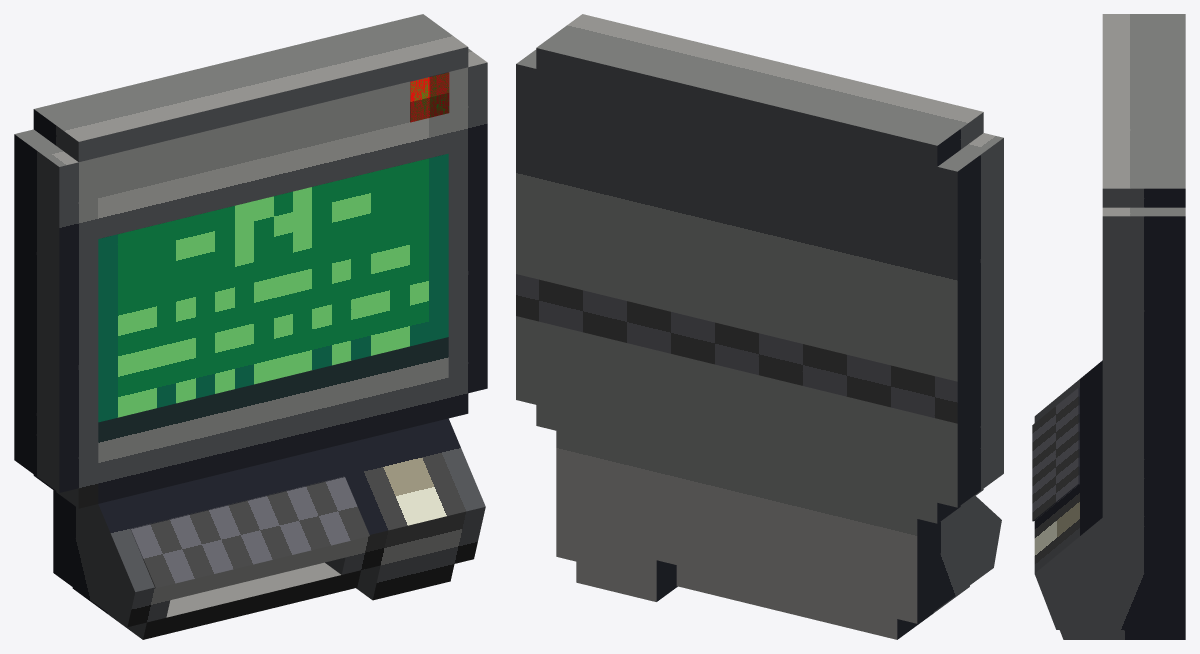
Rendered from newscaster_wanted_alert.glb.
3 views of the same model, side by side, from view 1: azimuth 30°, elevation 25°; view 2: azimuth 150°, elevation 25°; view 3: azimuth 270°, elevation 25° (orthographic). The views are drawn at different scales.
Visible parts, largest first — view 1: Continuous_Housing, Screen_Overlay, Keyboard_Panel, Alert_Overlay; view 2: Continuous_Housing; view 3: Continuous_Housing, Keyboard_Panel.
Boxes of the visible parts, x1=… form: Continuous_Housing: x1=14, y1=14, x2=487, y2=639; Screen_Overlay: x1=98, y1=72, x2=449, y2=422; Keyboard_Panel: x1=130, y1=476, x2=369, y2=588; Alert_Overlay: x1=410, y1=73, x2=448, y2=121; Continuous_Housing: x1=516, y1=14, x2=1003, y2=639; Continuous_Housing: x1=1034, y1=14, x2=1185, y2=639; Keyboard_Panel: x1=1032, y1=387, x2=1079, y2=521.
Size of the model in its own units: 0.6188 by 0.7031 by 0.2081.
3 materials, 3 textured.
